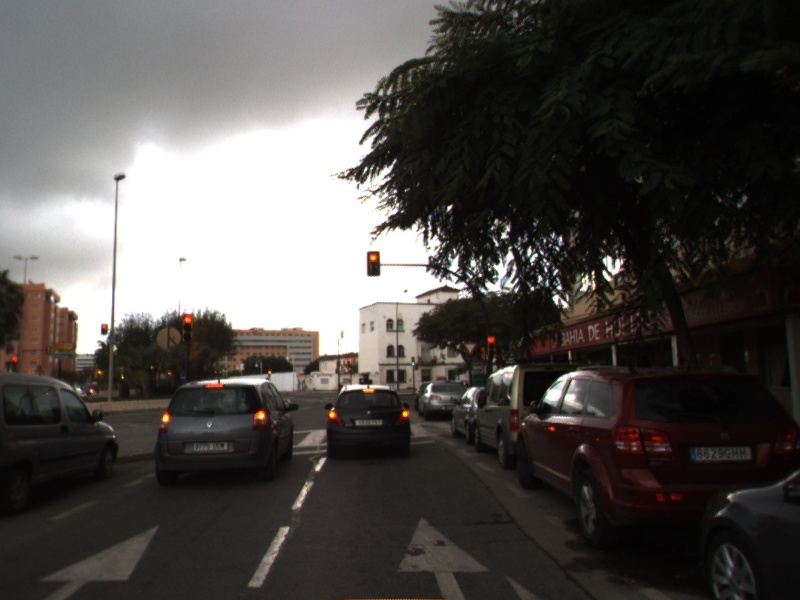STRAIGHT: (35, 523, 161, 600), (395, 515, 492, 600)
